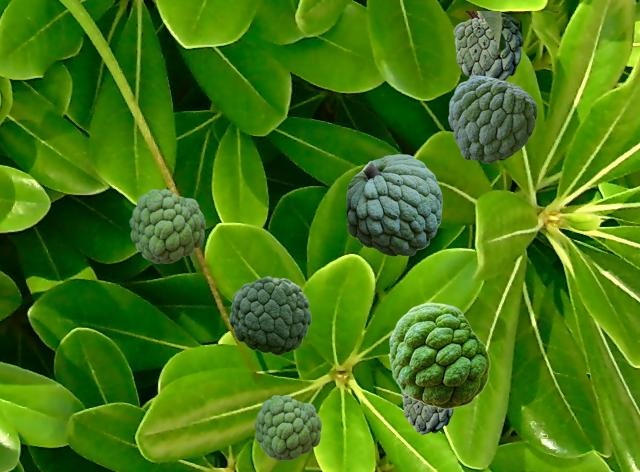atis: (389, 302, 489, 408), (346, 154, 441, 255), (448, 75, 536, 162), (453, 11, 559, 80), (229, 276, 310, 354), (129, 189, 204, 262), (254, 395, 320, 459), (401, 392, 453, 433)
